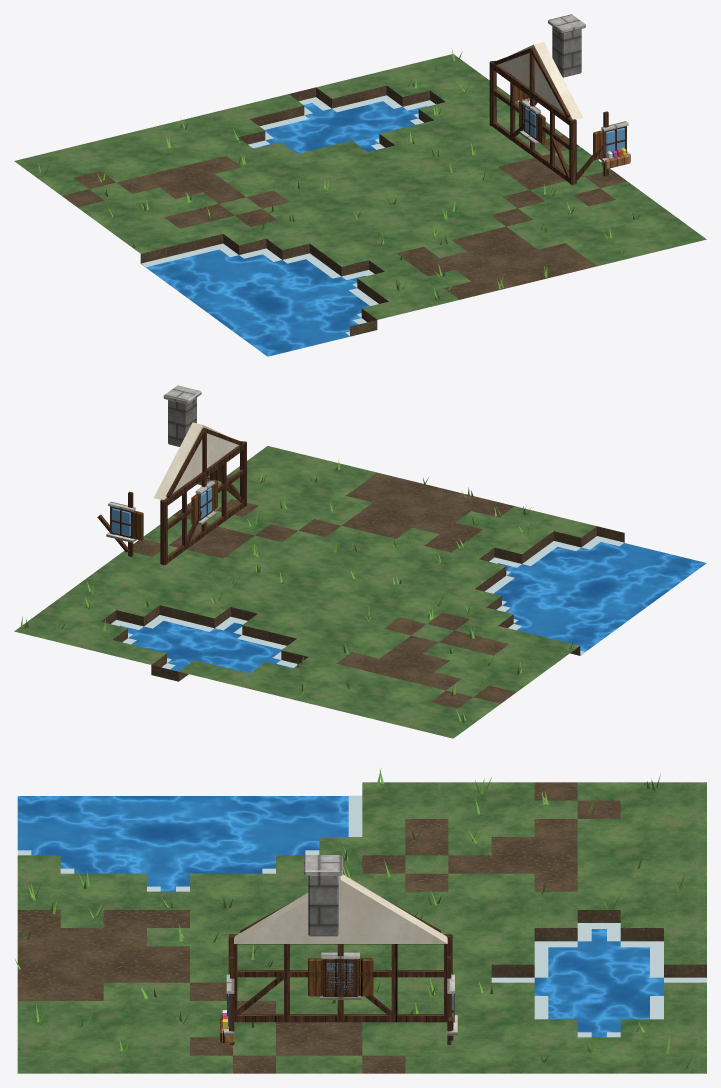
Rendered from chunk_1_16.glb.
The picture shows the model from 3 angles, top to bottom: view 1: azimuth 30°, elevation 25°; view 2: azimuth 150°, elevation 25°; view 3: azimuth 270°, elevation 25°; orthographic projection. The views are drawn at different scales.
Parts seen in each view (by area): view 1: chunk_1_16; view 2: chunk_1_16; view 3: chunk_1_16.
Boxes of the visible parts, x1=… form: chunk_1_16: x1=14, y1=14, x2=706, y2=356; chunk_1_16: x1=14, y1=385, x2=706, y2=738; chunk_1_16: x1=14, y1=768, x2=706, y2=1073.
Bounding box in the file's own units: 16.46 × 5.29 × 16.08.
Materials: 17 (10 with a texture image).
